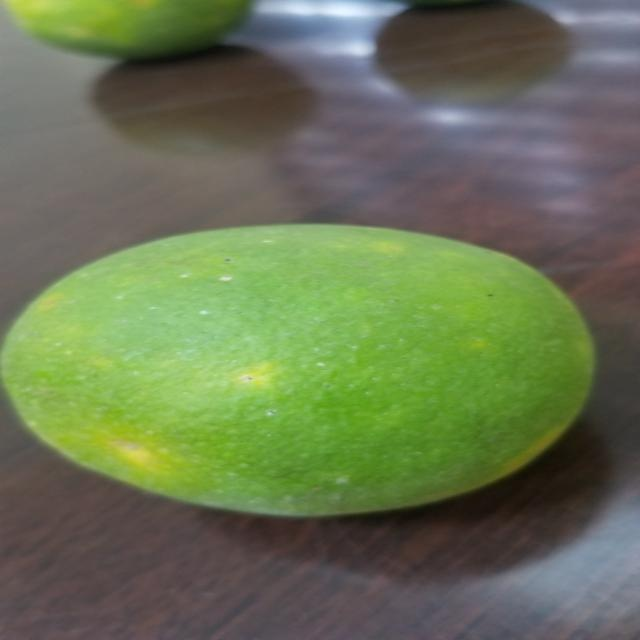agrume: (0, 222, 620, 522)
